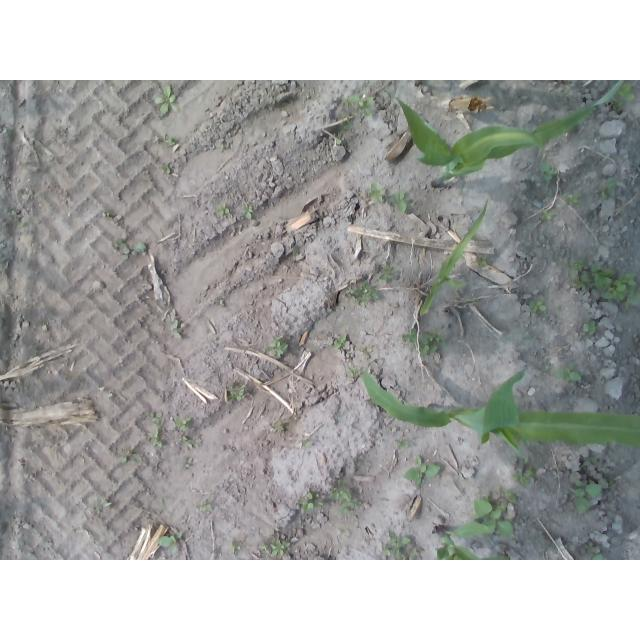Maize: (361, 365, 640, 459), (386, 80, 624, 188), (419, 198, 489, 315), (433, 522, 511, 560)
Weeds: (566, 257, 640, 308), (471, 492, 514, 536), (401, 327, 448, 357), (381, 530, 424, 560), (328, 480, 362, 516), (571, 478, 603, 514), (403, 456, 441, 486), (345, 282, 380, 307), (539, 363, 582, 383), (343, 94, 374, 118), (611, 82, 635, 111), (156, 85, 180, 113), (157, 530, 184, 554), (258, 539, 292, 558), (297, 492, 324, 513), (512, 466, 537, 487), (267, 337, 290, 359), (594, 177, 616, 200), (389, 190, 411, 212), (372, 265, 396, 283), (538, 161, 558, 181), (579, 319, 597, 338), (367, 183, 386, 201), (498, 486, 518, 503), (117, 450, 143, 463), (148, 429, 164, 448), (527, 299, 547, 314), (563, 193, 582, 208), (168, 319, 181, 339), (174, 416, 190, 432), (115, 238, 130, 255), (581, 456, 600, 468), (333, 334, 348, 349), (589, 545, 604, 560), (339, 118, 353, 134), (149, 411, 163, 426), (214, 204, 230, 217), (538, 209, 554, 222), (228, 388, 244, 401), (242, 202, 254, 219), (348, 365, 361, 380), (182, 435, 195, 449), (474, 254, 486, 268), (396, 438, 409, 450), (134, 241, 147, 253), (201, 501, 214, 513), (230, 542, 243, 553), (301, 439, 311, 448), (20, 217, 29, 227), (166, 138, 176, 146), (161, 165, 171, 173), (608, 480, 617, 488), (216, 299, 225, 307), (274, 422, 283, 430), (293, 246, 300, 255), (336, 139, 343, 146), (10, 210, 18, 216)
